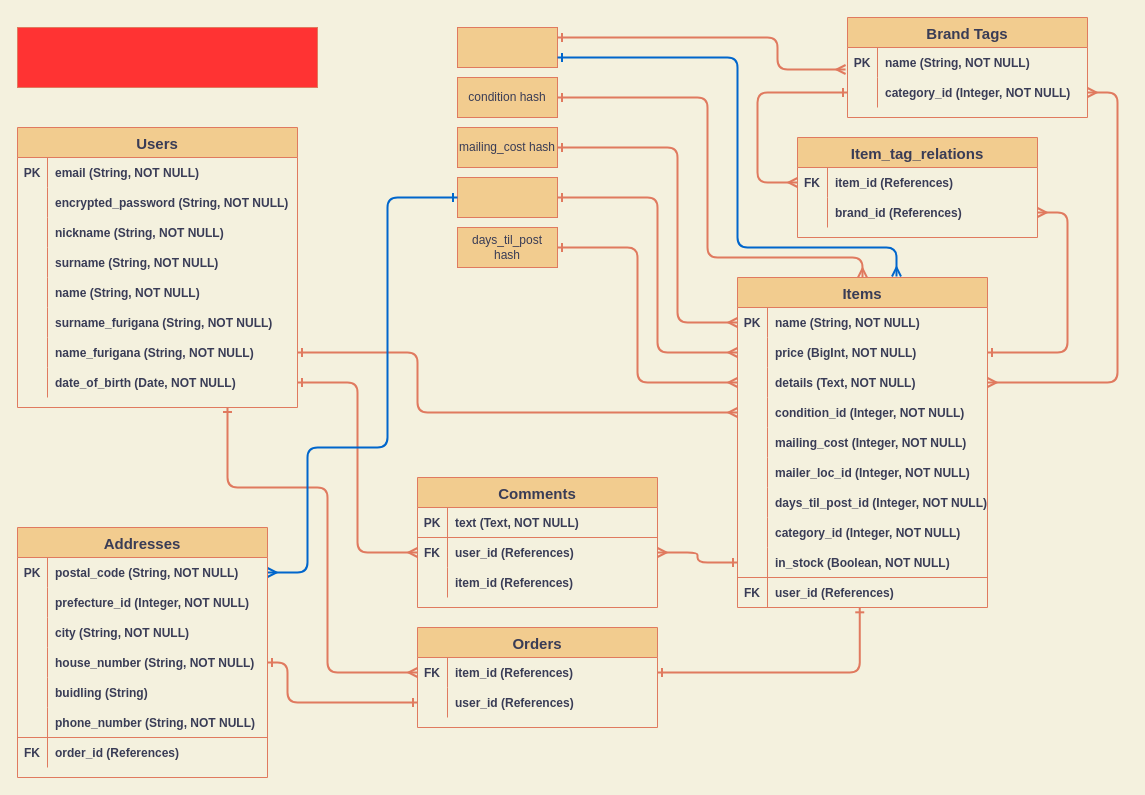
The diagram is 1145 pixels wide and 795 high, and some of its shapes have lost their labels. Here are the shapes that lost their labels. From the top down, the centre of each, then its label:
the point at 167,57: ※ Note: セットで売る場合を考慮してItemとタグに中間テーブルを設けます。
the point at 507,47: category hash
the point at 507,197: prefecture hash
